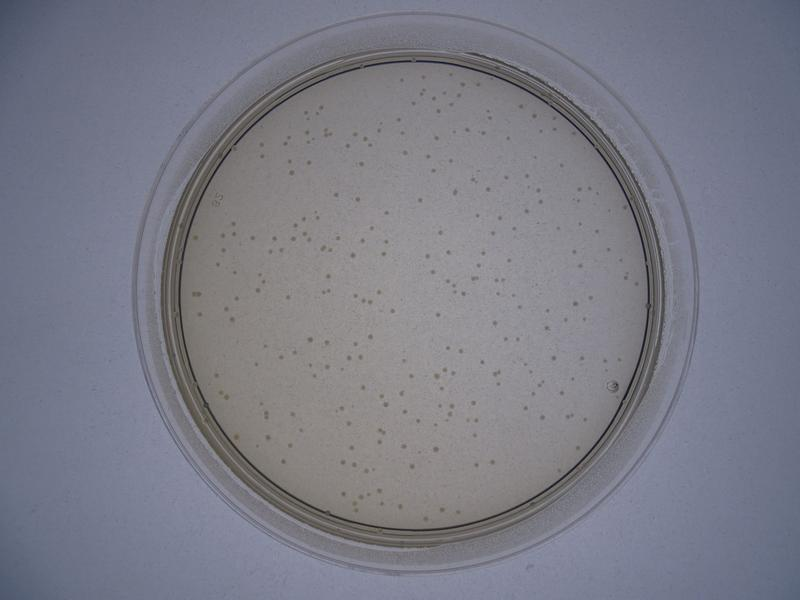colony: (431, 306, 445, 321), (429, 442, 441, 458), (353, 193, 366, 206), (423, 249, 435, 262), (487, 455, 499, 468), (406, 460, 418, 472), (436, 226, 447, 239), (388, 305, 398, 319), (347, 251, 358, 263), (399, 146, 411, 157), (355, 158, 366, 169), (250, 360, 261, 371), (330, 187, 341, 198), (343, 419, 354, 429), (304, 334, 316, 343), (414, 195, 424, 205), (367, 334, 378, 342), (490, 318, 499, 327), (282, 293, 292, 301), (576, 261, 585, 269)
